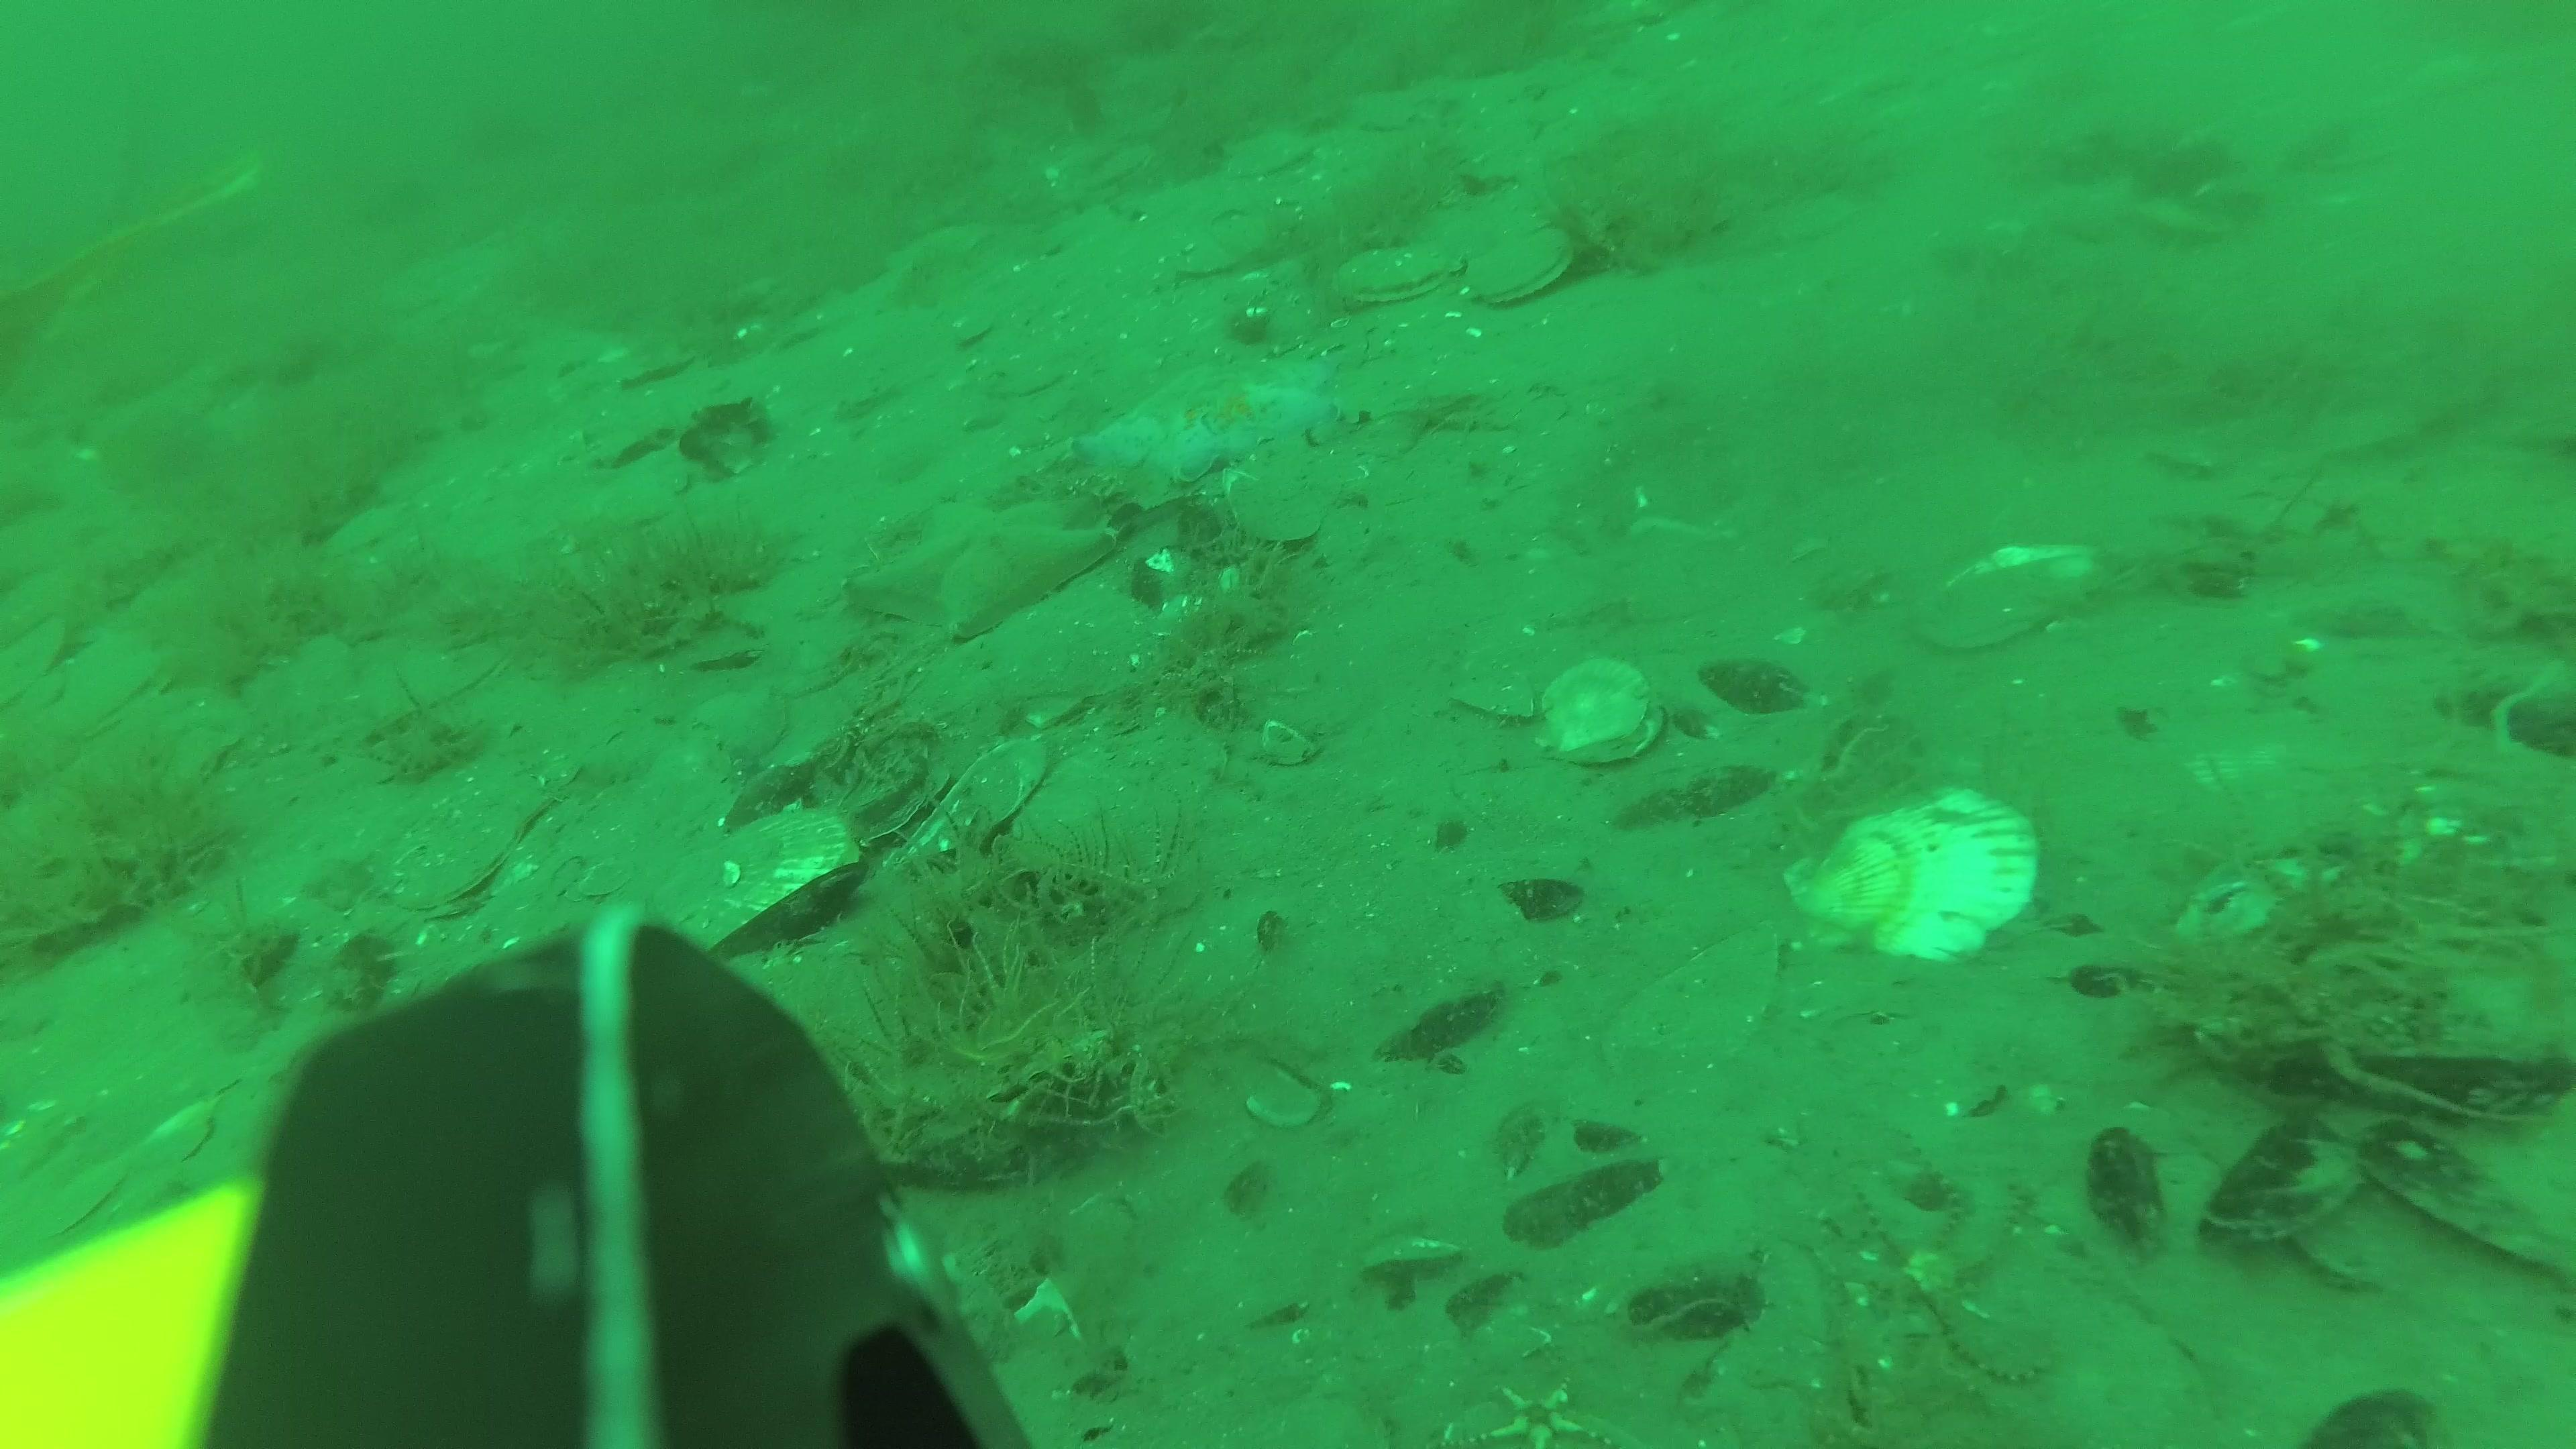scallop: (1782, 784, 2038, 962), (649, 814, 863, 952), (1916, 538, 2089, 642), (389, 786, 533, 909), (1539, 662, 1665, 761), (1224, 453, 1348, 550), (377, 648, 494, 718), (1468, 235, 1569, 306), (1330, 242, 1453, 292), (1242, 1067, 1330, 1134)
starfish: (849, 506, 1108, 633), (1074, 363, 1343, 476)
